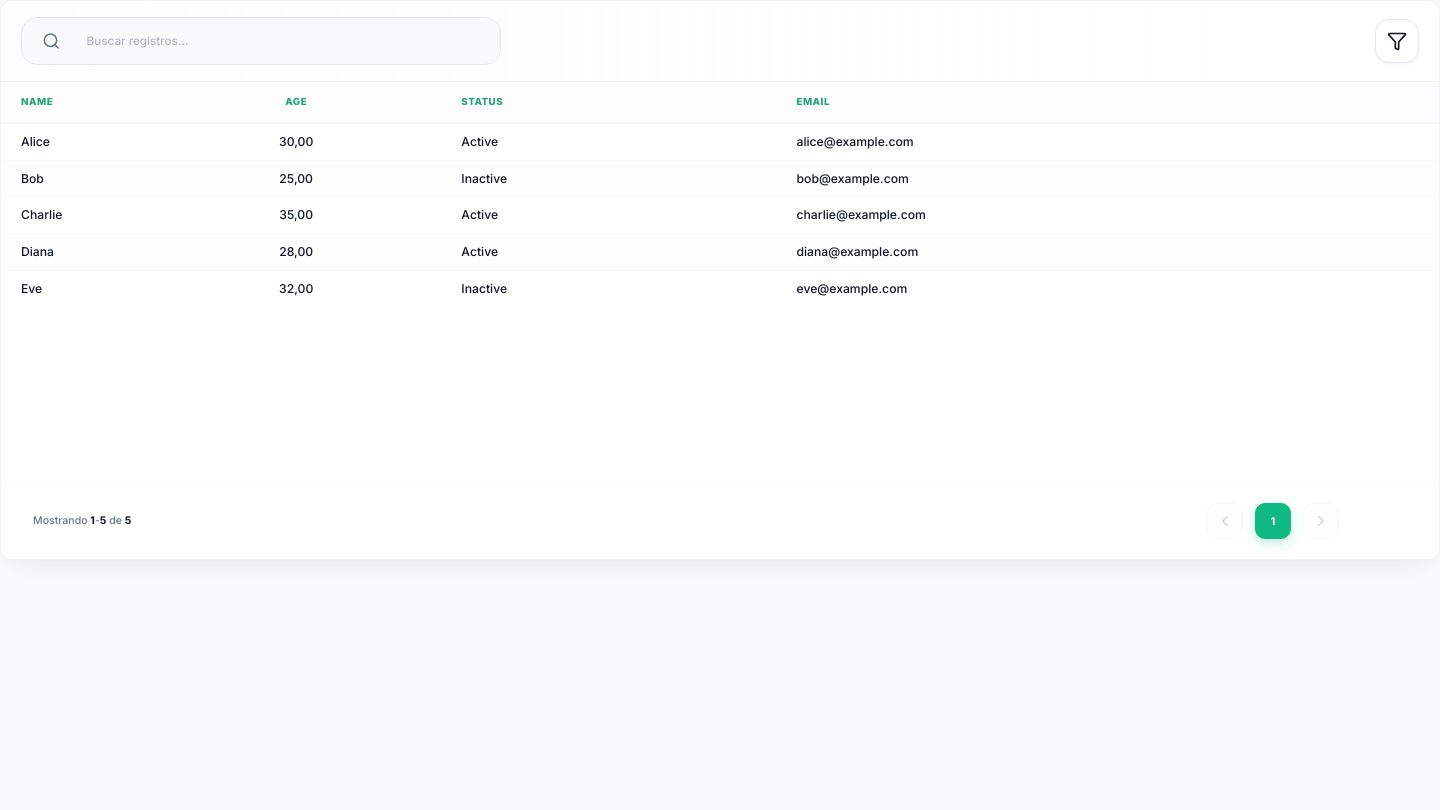
Test: ModernTable Integration Tests › Search and Filtering › shows empty state when search returns no results
Type "NonexistentName" into the field with placeholder "Buscar registros...".
click(276, 41); type("NonexistentName")  # box [72,24,480,58]
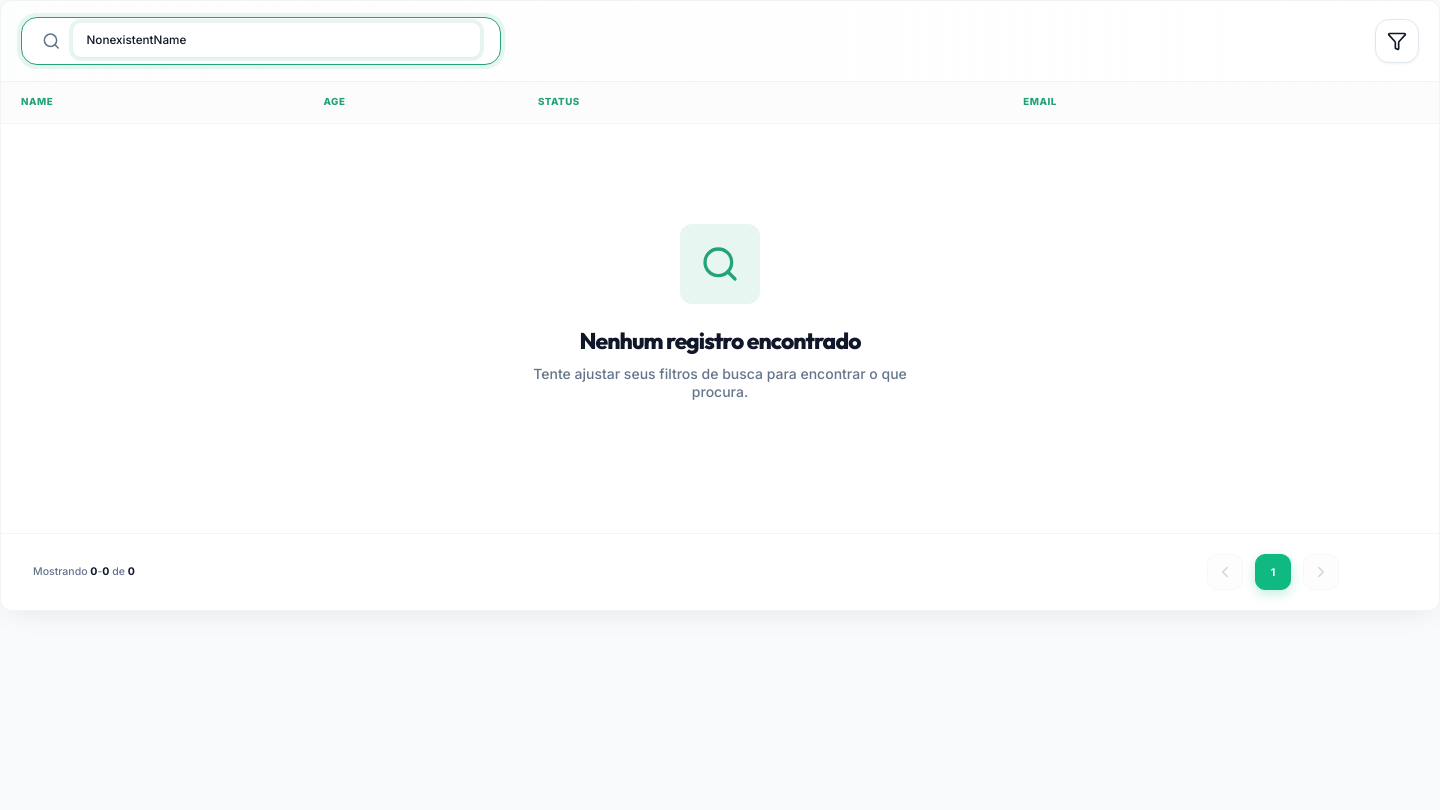
Expected: the heading "Nenhum registro encontrado" is shown, [579,328,860,353]
Expected: the text "Tente ajustar seus filtros de busca" is shown, [533,365,907,400]
